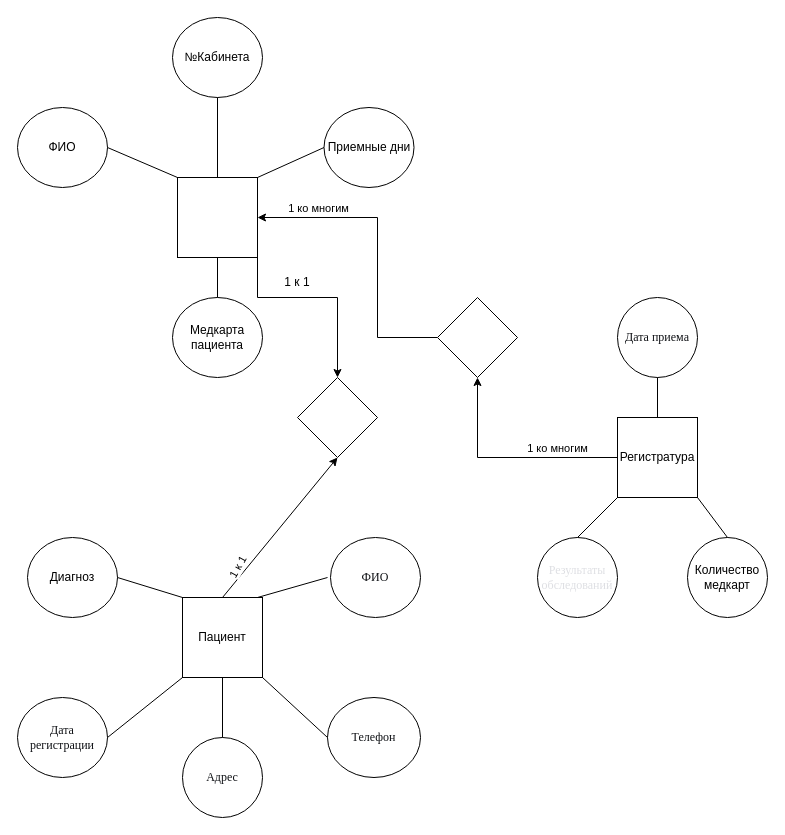
The diagram is 785 pixels wide and 835 high, and some of its shapes have lost their labels. The shapes that lost their labels are listed below. From the top down, each one's centre as x and y in pixels, then its label:
At (217,217): "Врач".
At (477,337): "Запись".
At (337,417): "Прием".
